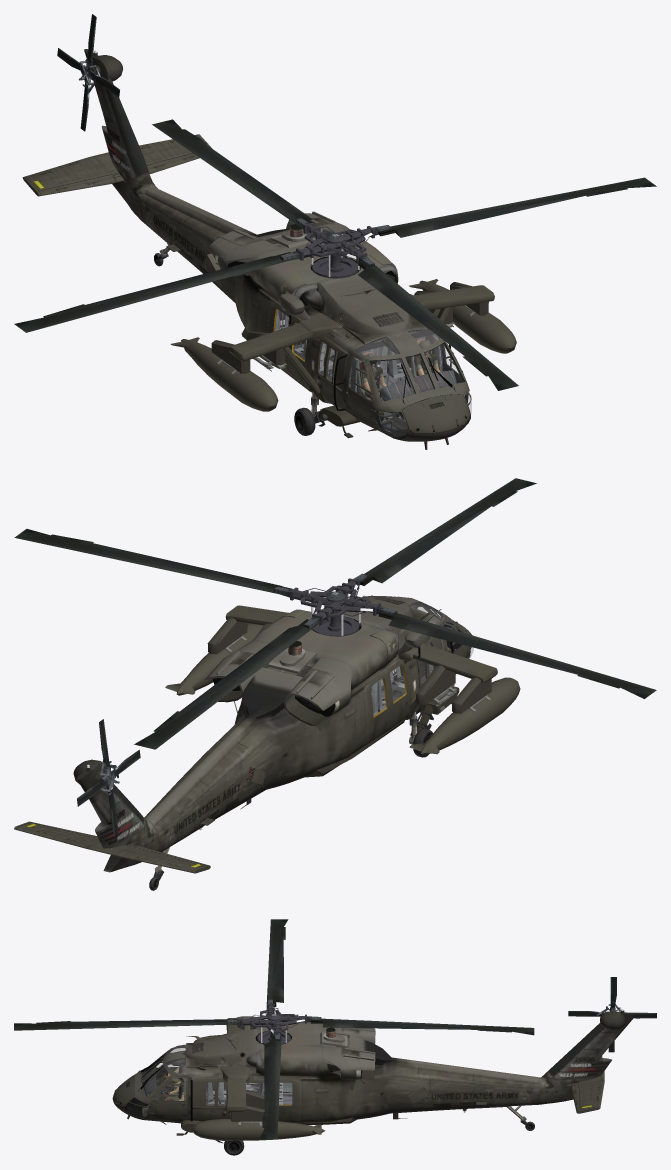
3 renders of one model, top to bottom at view 1: azimuth 30°, elevation 25°; view 2: azimuth 150°, elevation 25°; view 3: azimuth 270°, elevation 25°, orthographic. The views are drawn at different scales.
Visible parts, largest first — view 1: Object_10, Object_6, Object_9, Object_2, Object_7, Object_8; view 2: Object_10, Object_6, Object_2, Object_9; view 3: Object_10, Object_6, Object_2, Object_9, Object_7.
Boxes of the visible parts, x1,y1,x2,y2 form: Object_10: (22, 49, 516, 449); Object_6: (14, 14, 656, 417); Object_9: (274, 310, 471, 438); Object_2: (280, 218, 440, 421); Object_7: (253, 314, 468, 439); Object_8: (322, 330, 439, 418); Object_10: (14, 593, 520, 890); Object_6: (14, 478, 656, 836); Object_2: (273, 573, 453, 652); Object_9: (371, 621, 473, 715); Object_10: (112, 1010, 637, 1155); Object_6: (14, 919, 656, 1139); Object_2: (156, 999, 321, 1100); Object_9: (126, 1054, 291, 1118); Object_7: (126, 1045, 292, 1119).
Size of the model in its own units: 2.02 by 0.6641 by 2.5.
10 materials, 7 textured.
